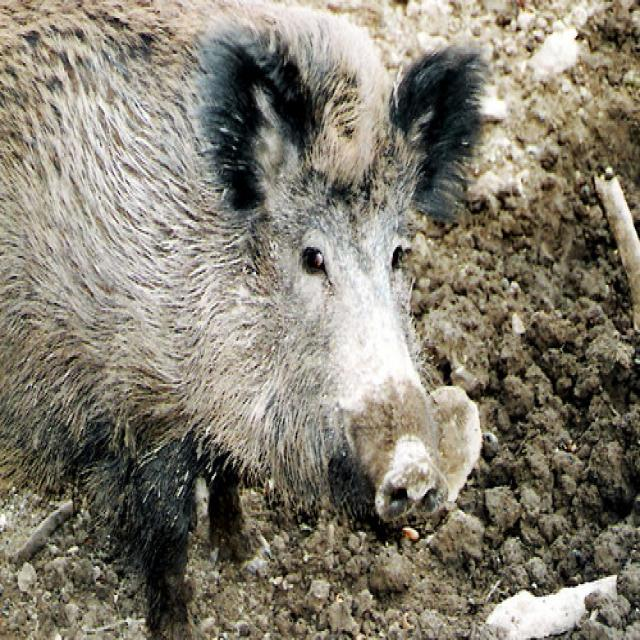boar: (0, 0, 536, 633)
